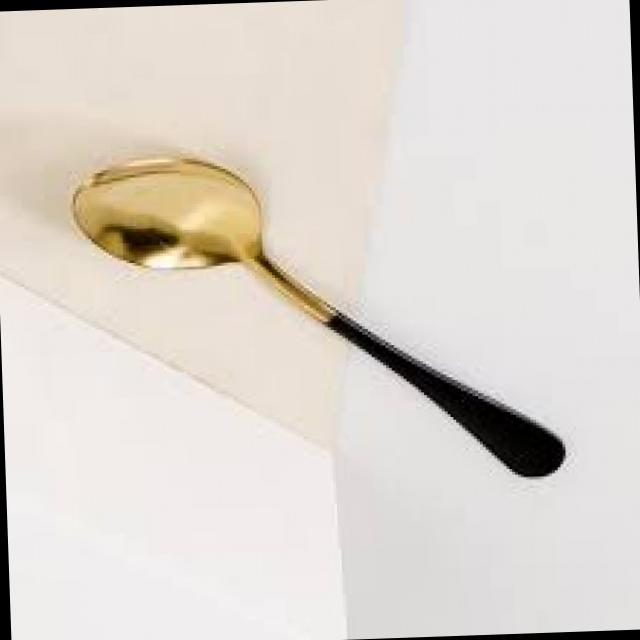spoon: (59, 120, 574, 510)
